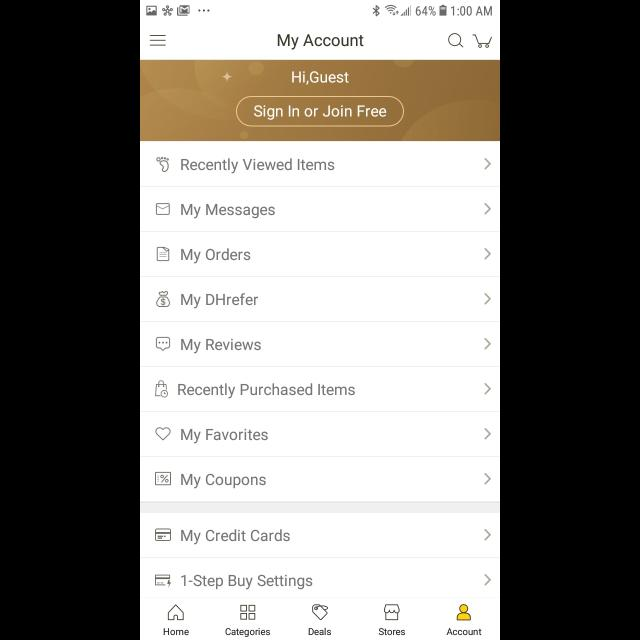icon: (472, 35, 492, 49), (168, 604, 185, 620), (456, 604, 472, 620), (312, 604, 328, 620), (240, 604, 256, 620), (156, 336, 172, 352), (155, 574, 171, 588), (155, 528, 171, 542), (156, 472, 172, 486), (156, 427, 172, 441), (156, 246, 170, 262), (448, 34, 464, 48), (156, 380, 168, 398), (150, 36, 167, 46), (156, 203, 170, 215), (484, 158, 492, 170), (484, 203, 492, 215), (484, 248, 492, 260), (484, 293, 492, 305), (484, 338, 492, 350), (484, 383, 492, 395), (484, 428, 492, 440), (484, 473, 492, 485), (484, 529, 492, 541), (484, 574, 492, 586)
image: (384, 604, 400, 620), (156, 291, 170, 307), (156, 157, 170, 173)
text: (178, 383, 356, 399), (181, 158, 335, 174), (181, 574, 313, 590), (181, 529, 291, 545), (278, 34, 364, 50), (182, 428, 268, 444), (182, 473, 266, 489), (181, 204, 275, 218), (181, 338, 261, 354), (182, 293, 258, 309), (181, 248, 251, 264), (292, 70, 350, 86), (226, 628, 270, 638), (446, 628, 482, 636), (378, 628, 406, 636), (163, 628, 189, 636), (308, 627, 332, 635)
textbutton: (236, 96, 404, 128)
uppertaskbar: (140, 1, 500, 18)
